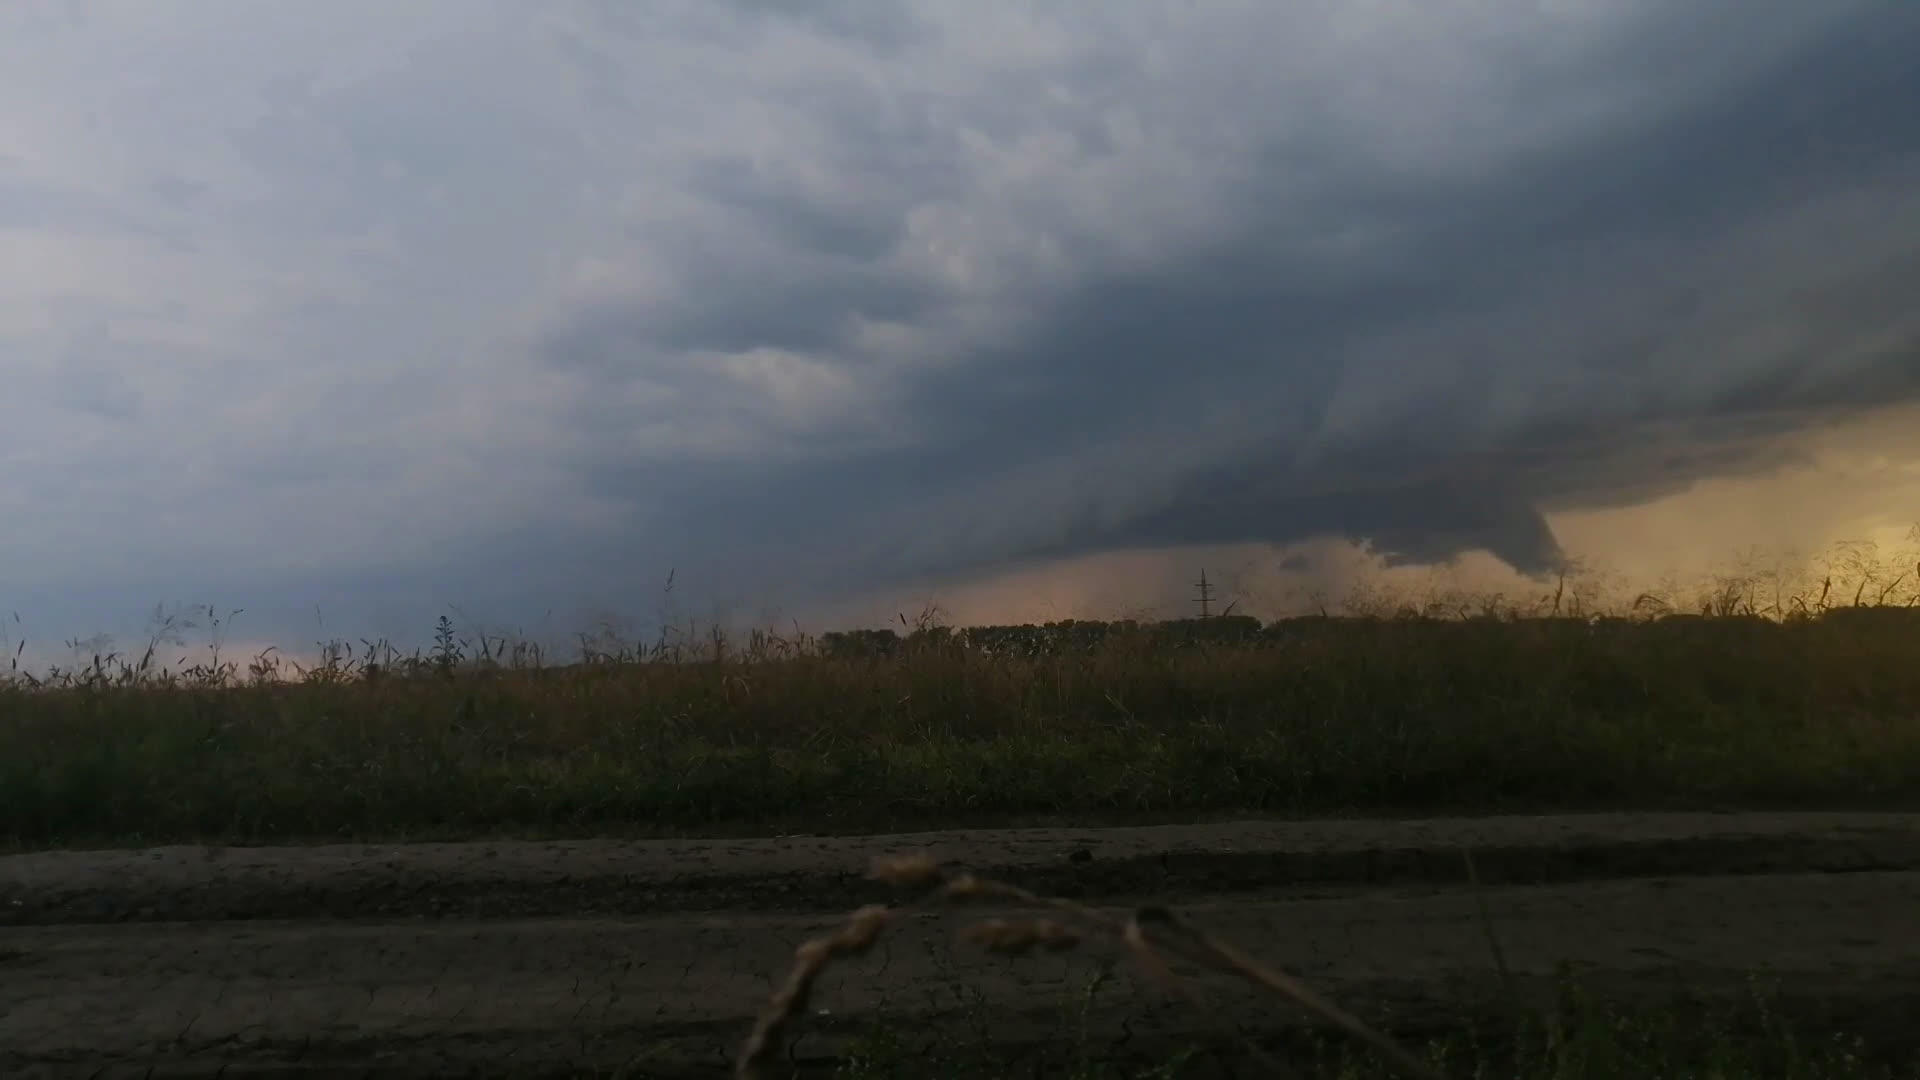FFD: (1, 572, 872, 662)
RFD: (1075, 539, 1375, 628)
mesocyclone: (572, 1, 1908, 491)
wall cloud: (873, 236, 1919, 583)
